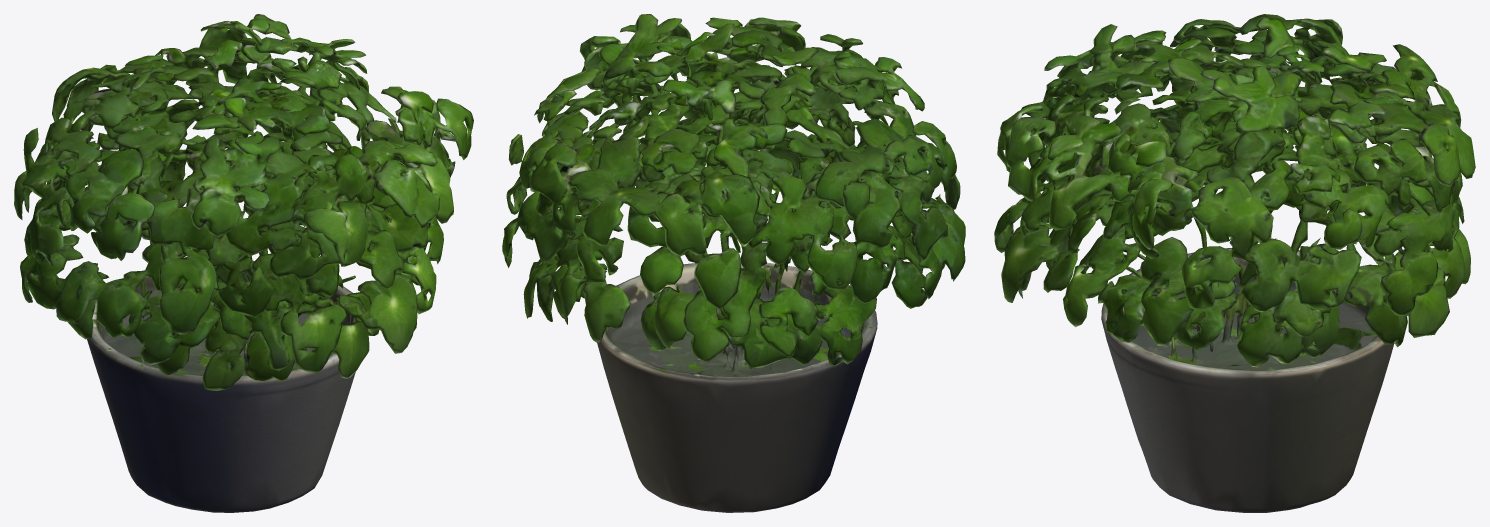
The model's file is bacopa.glb.
3 views of the same model, side by side, from view 1: azimuth 30°, elevation 25°; view 2: azimuth 150°, elevation 25°; view 3: azimuth 270°, elevation 25° (orthographic). The views are drawn at different scales.
Bounding box in the file's own units: 1.91 × 2 × 1.88.
1 material, 1 textured.
